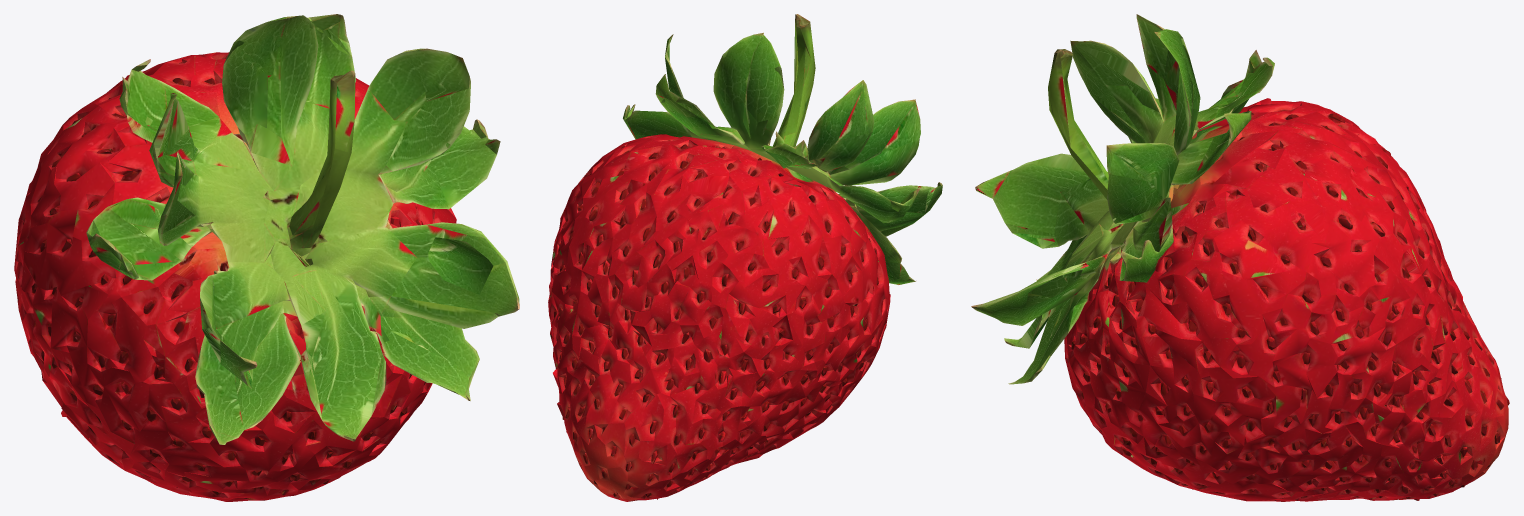
File: strawberry-lo.glb
3 views of the same model, side by side, from view 1: azimuth 30°, elevation 25°; view 2: azimuth 150°, elevation 25°; view 3: azimuth 270°, elevation 25° (orthographic). The views are drawn at different scales.
Visible parts, largest first — view 1: Mesh_0; view 2: Mesh_0; view 3: Mesh_0.
Boxes of the visible parts, box(x1,y1,x2,y2) form: Mesh_0: box(14, 14, 519, 501); Mesh_0: box(548, 14, 942, 501); Mesh_0: box(971, 14, 1509, 501).
Size of the model in its own units: 1.44 by 1.78 by 1.9.
Materials: 1 (1 with a texture image).
